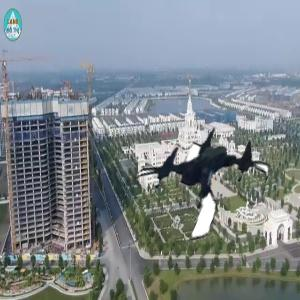drone: (129, 117, 270, 258)
